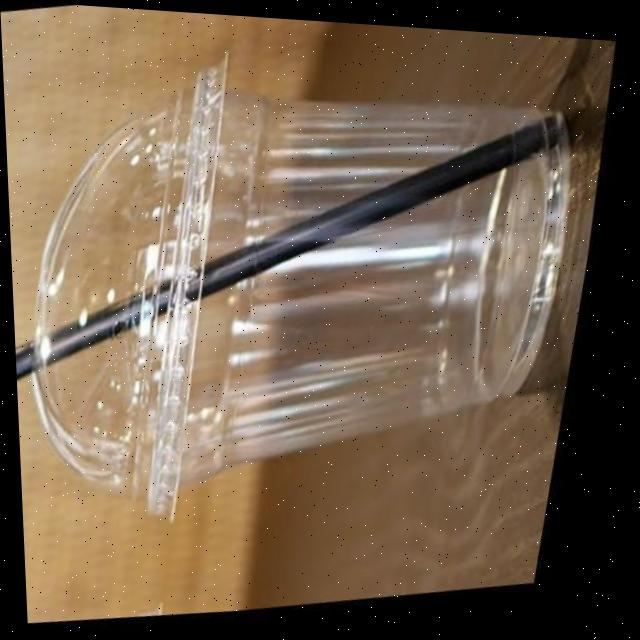cup: (16, 57, 606, 544)
